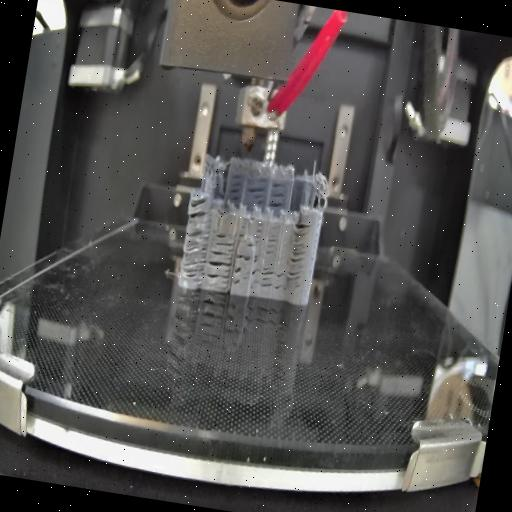cracks: (204, 230, 236, 288), (178, 227, 210, 281), (284, 220, 311, 284), (258, 264, 286, 294), (244, 174, 268, 206), (228, 171, 246, 203), (188, 195, 210, 221), (268, 180, 287, 210), (266, 226, 280, 256), (248, 254, 260, 288), (235, 248, 253, 264), (252, 222, 264, 244), (232, 265, 242, 288), (238, 218, 247, 238), (246, 240, 254, 248)
